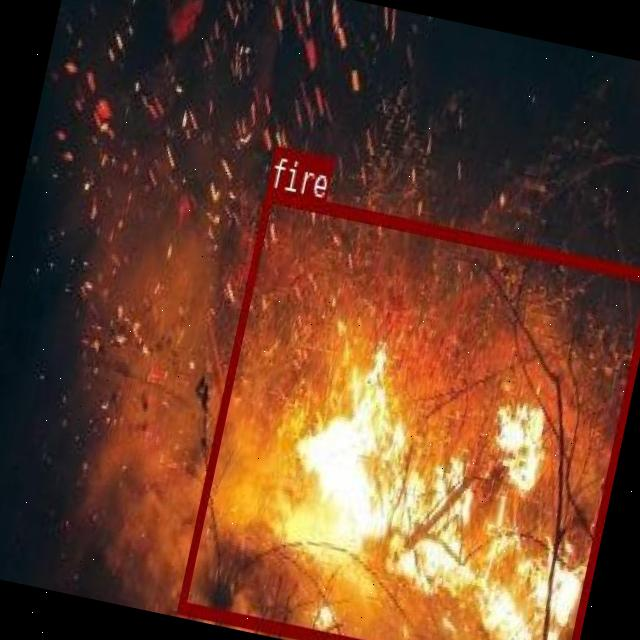fire: (176, 188, 640, 640)
